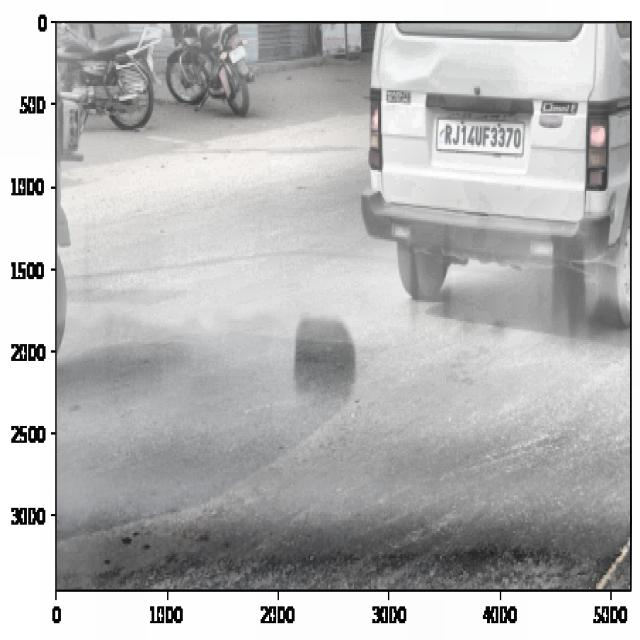license_plate: (437, 118, 525, 156)
